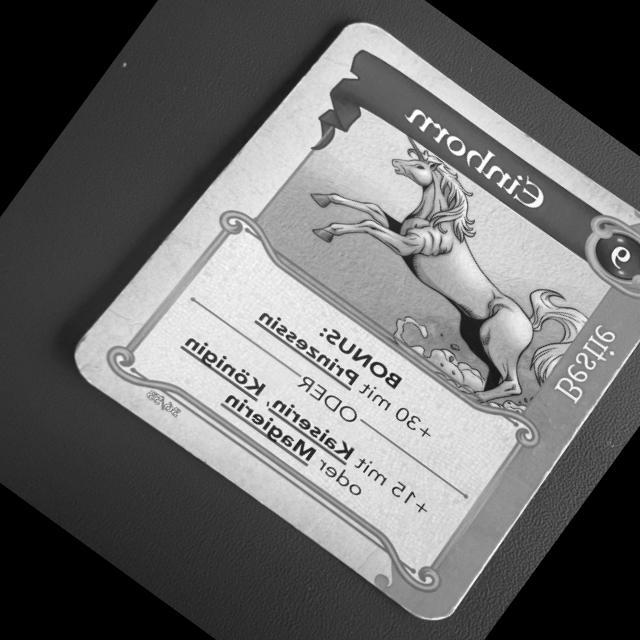Unicorn: (49, 5, 640, 640)
